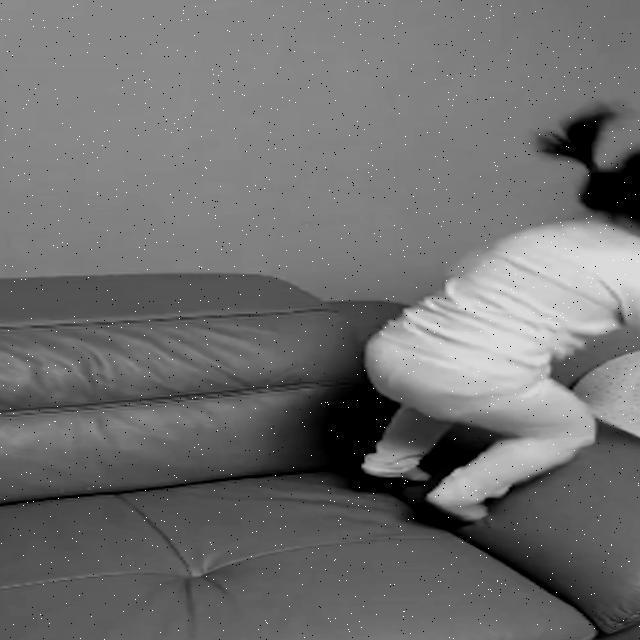child: (362, 108, 640, 521)
